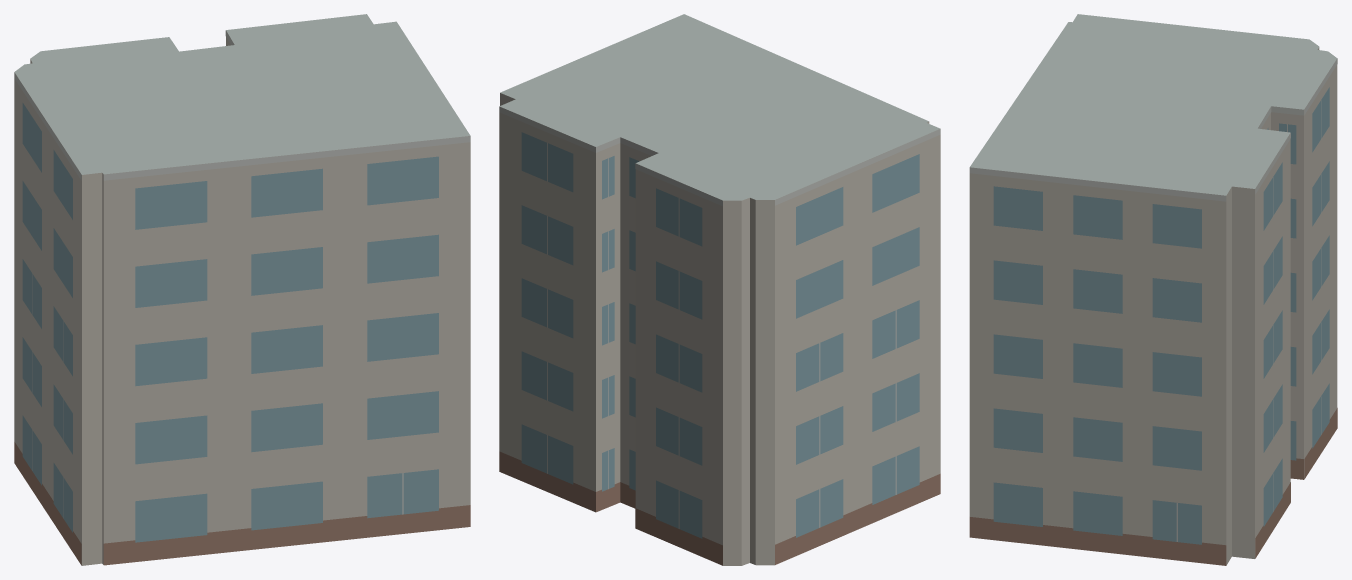
Rendered from survey-upis-32740916.glb.
The picture shows the model from 3 angles, left to right: view 1: azimuth 30°, elevation 25°; view 2: azimuth 150°, elevation 25°; view 3: azimuth 270°, elevation 25°; orthographic projection. The views are drawn at different scales.
Visible parts, largest first — view 1: survey-upis-32740916.tmp; view 2: survey-upis-32740916.tmp; view 3: survey-upis-32740916.tmp.
Part boxes in pixels (bbox=[...]): survey-upis-32740916.tmp: bbox=[14, 14, 470, 565]; survey-upis-32740916.tmp: bbox=[499, 14, 940, 565]; survey-upis-32740916.tmp: bbox=[969, 14, 1337, 565].
Size of the model in its own units: 16.01 by 15.2 by 13.7.
